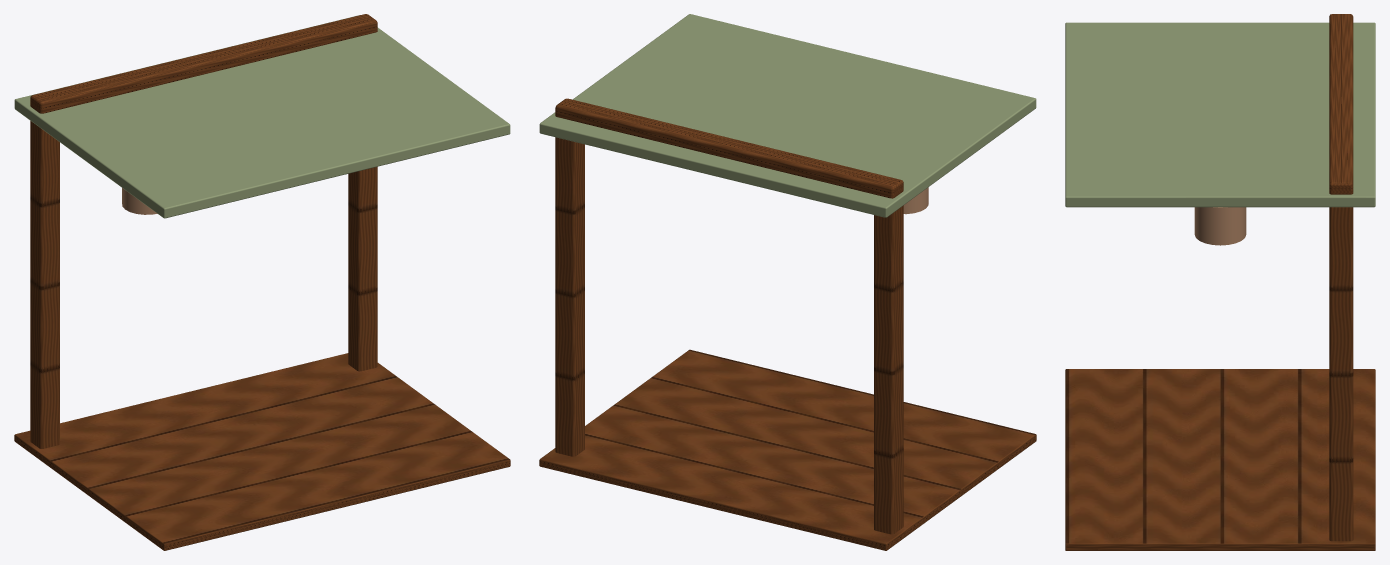
File: creature-husbandry-and-transport-brooder-canopy-9e53b5c9__24004.glb
The picture shows the model from 3 angles, left to right: view 1: azimuth 30°, elevation 25°; view 2: azimuth 150°, elevation 25°; view 3: azimuth 270°, elevation 25°; orthographic projection. The views are drawn at different scales.
Parts seen in each view (by area): view 1: brooder-canopy; view 2: brooder-canopy; view 3: brooder-canopy.
Boxes of the visible parts, bbox=[...] form: brooder-canopy: bbox=[14, 14, 510, 550]; brooder-canopy: bbox=[539, 14, 1036, 550]; brooder-canopy: bbox=[1065, 14, 1375, 550].
Bounding box in the file's own units: 1.2 × 1.17 × 0.9.
Materials: 4 (1 with a texture image).
